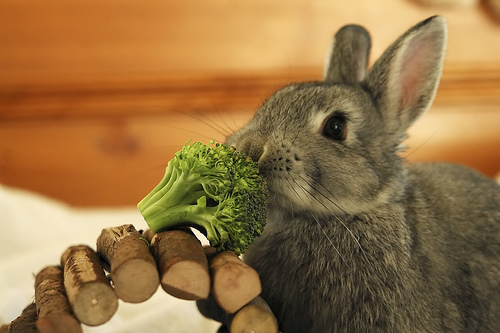broccoli: (138, 140, 270, 257)
